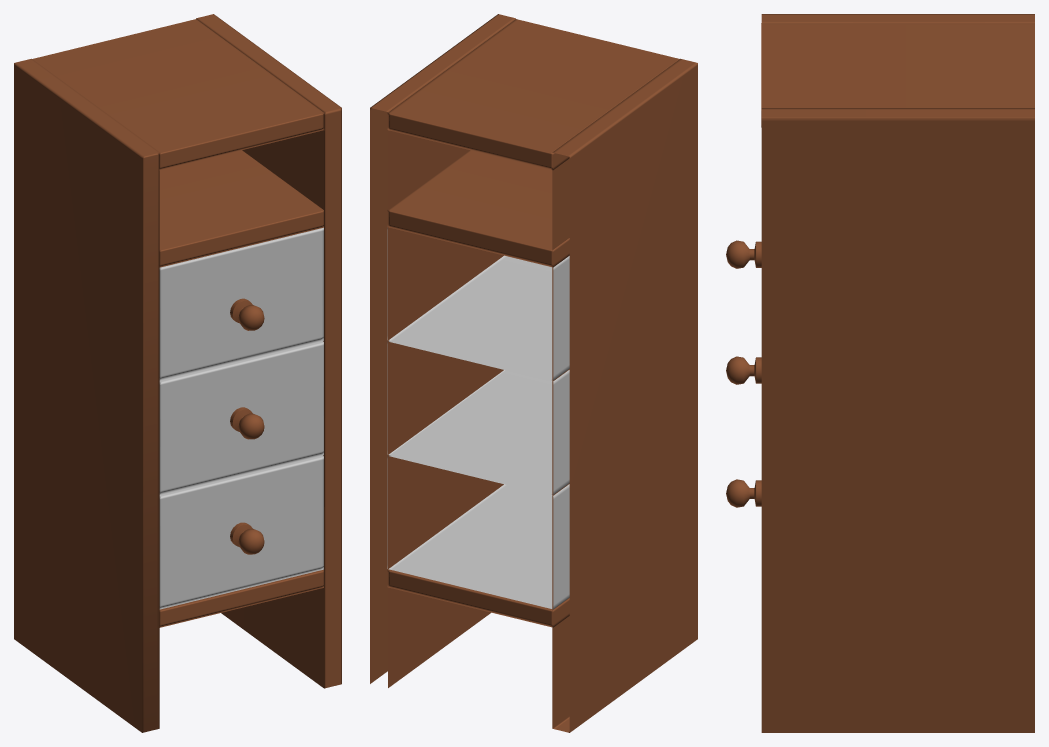
Rendered from cabinet_corner.fbx.
3 renders of one model, left to right at view 1: azimuth 30°, elevation 25°; view 2: azimuth 150°, elevation 25°; view 3: azimuth 270°, elevation 25°, orthographic. The views are drawn at different scales.
Visible parts, largest first — view 1: cabinet_corner; view 2: cabinet_corner; view 3: cabinet_corner.
Boxes of the visible parts, x1=… form: cabinet_corner: x1=14, y1=14, x2=341, y2=732; cabinet_corner: x1=370, y1=14, x2=697, y2=732; cabinet_corner: x1=726, y1=14, x2=1034, y2=732.
Bounding box in the file's own units: 0.4494 × 1.24 × 0.5642.
